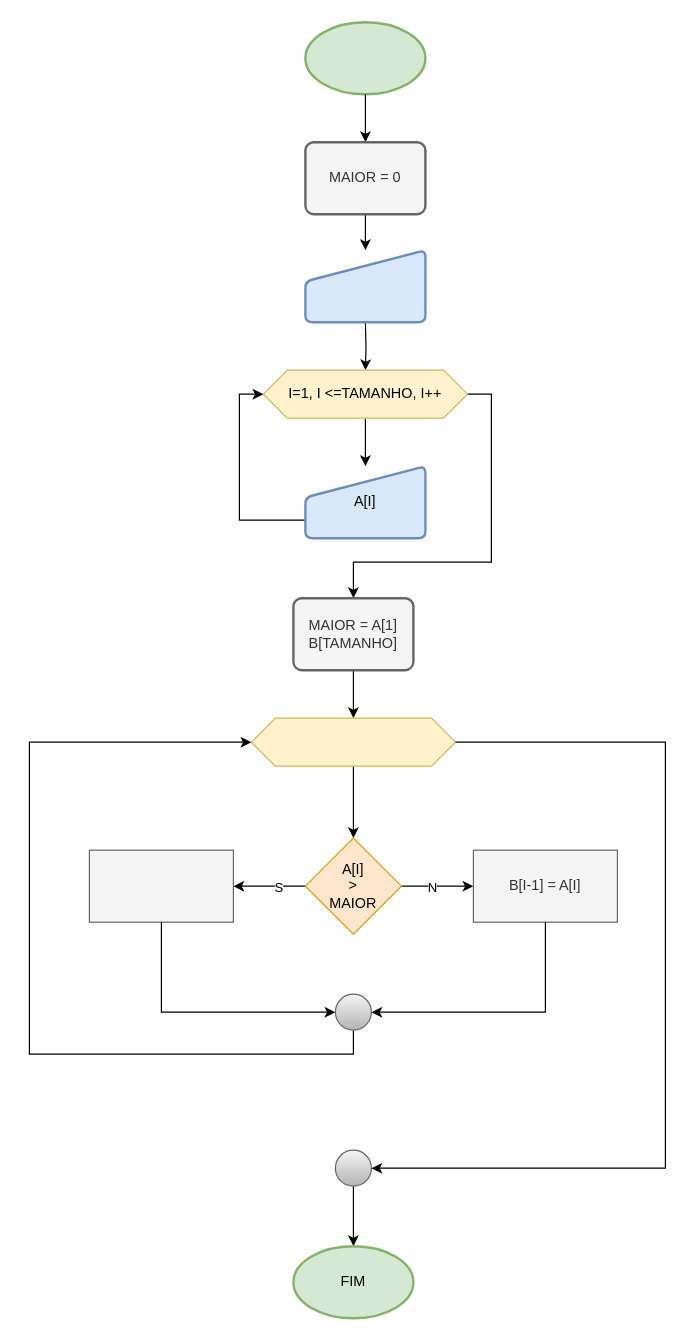
Some shapes in this 696 by 1339 pixel diagram are drawn without their labels. The centre of each missing label's shape, as x and y in pixels:
"B[I-1] = MAIOR MAIOR = A[I]" belongs at point 160,885.
"I=2, I <=TAMANHO, I++" belongs at point 352,741.
"INICIO" belongs at point 365,57.
"TAMANHO" belongs at point 365,285.
